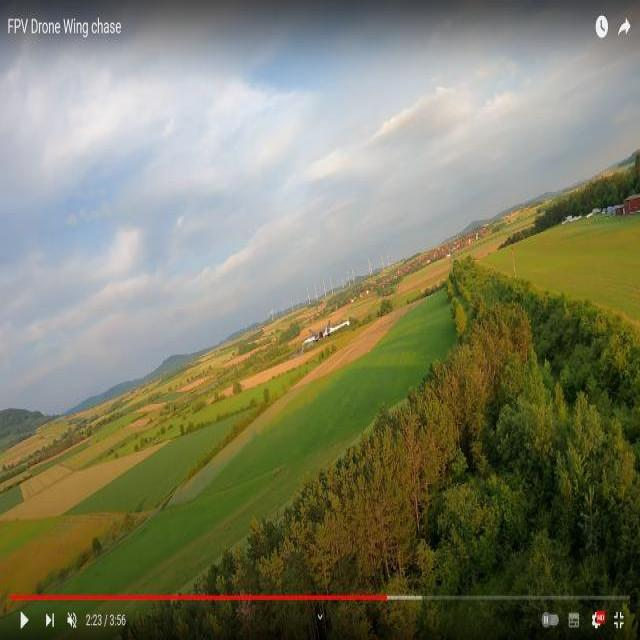iha: (314, 307, 327, 342)
